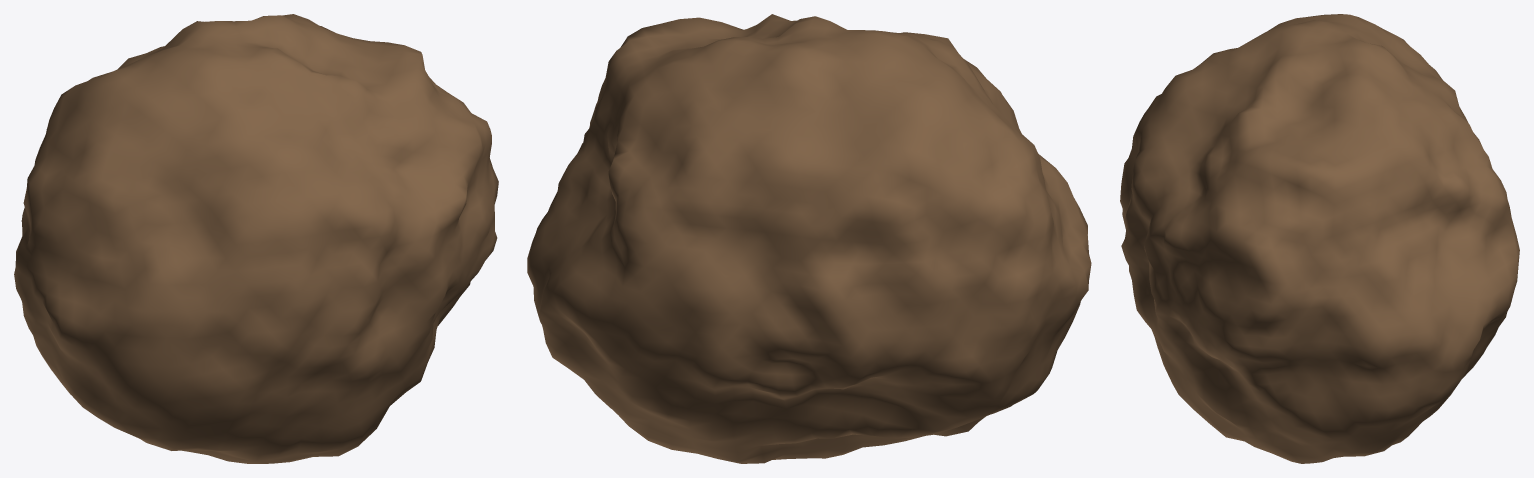
Rendered from soil_grain_test.glb.
3 renders of one model, left to right at view 1: azimuth 30°, elevation 25°; view 2: azimuth 150°, elevation 25°; view 3: azimuth 270°, elevation 25°, orthographic. The views are drawn at different scales.
Parts seen in each view (by area): view 1: soil_grain; view 2: soil_grain; view 3: soil_grain.
Part boxes in pixels (x1,y1,x2,y2): soil_grain: (14,14,498,463); soil_grain: (527,14,1091,463); soil_grain: (1120,14,1519,463).
Bounding box in the file's own units: 2.23 × 1.91 × 1.86.
